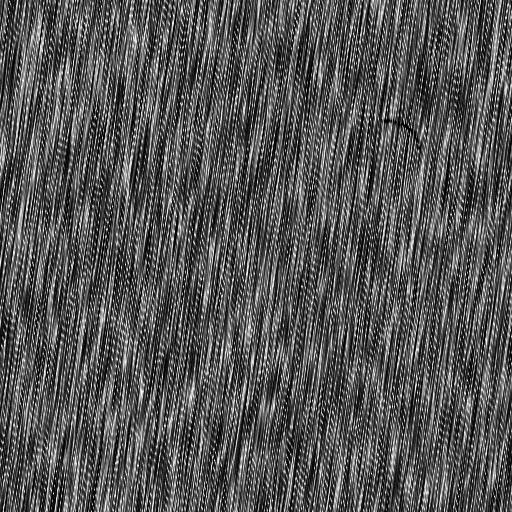DefectTypeC: (381, 114, 425, 147)
